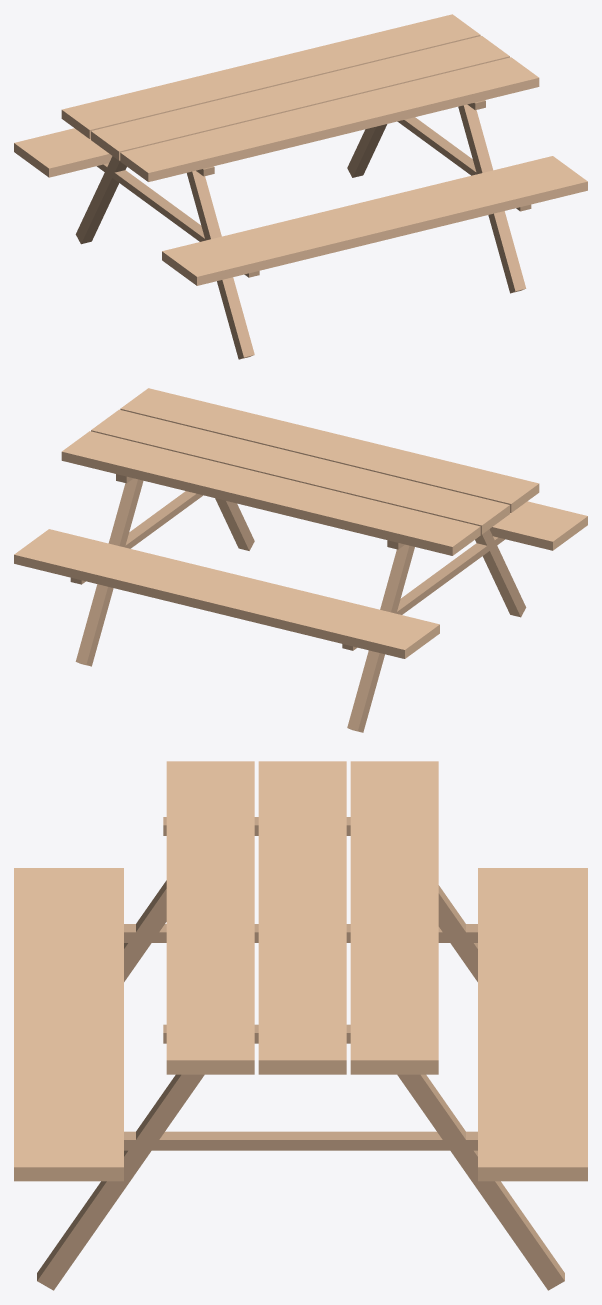
The model's file is diningPicnic.glb.
The picture shows the model from 3 angles, top to bottom: view 1: azimuth 30°, elevation 25°; view 2: azimuth 150°, elevation 25°; view 3: azimuth 270°, elevation 25°; orthographic projection. The views are drawn at different scales.
Visible parts, largest first — view 1: diningPicnic; view 2: diningPicnic; view 3: diningPicnic.
Boxes of the visible parts, x1,y1,x2,y2 form: diningPicnic: (14,14,587,359); diningPicnic: (14,388,587,732); diningPicnic: (14,761,587,1290).
Size of the model in its own units: 0.9 by 0.3817 by 0.73.
